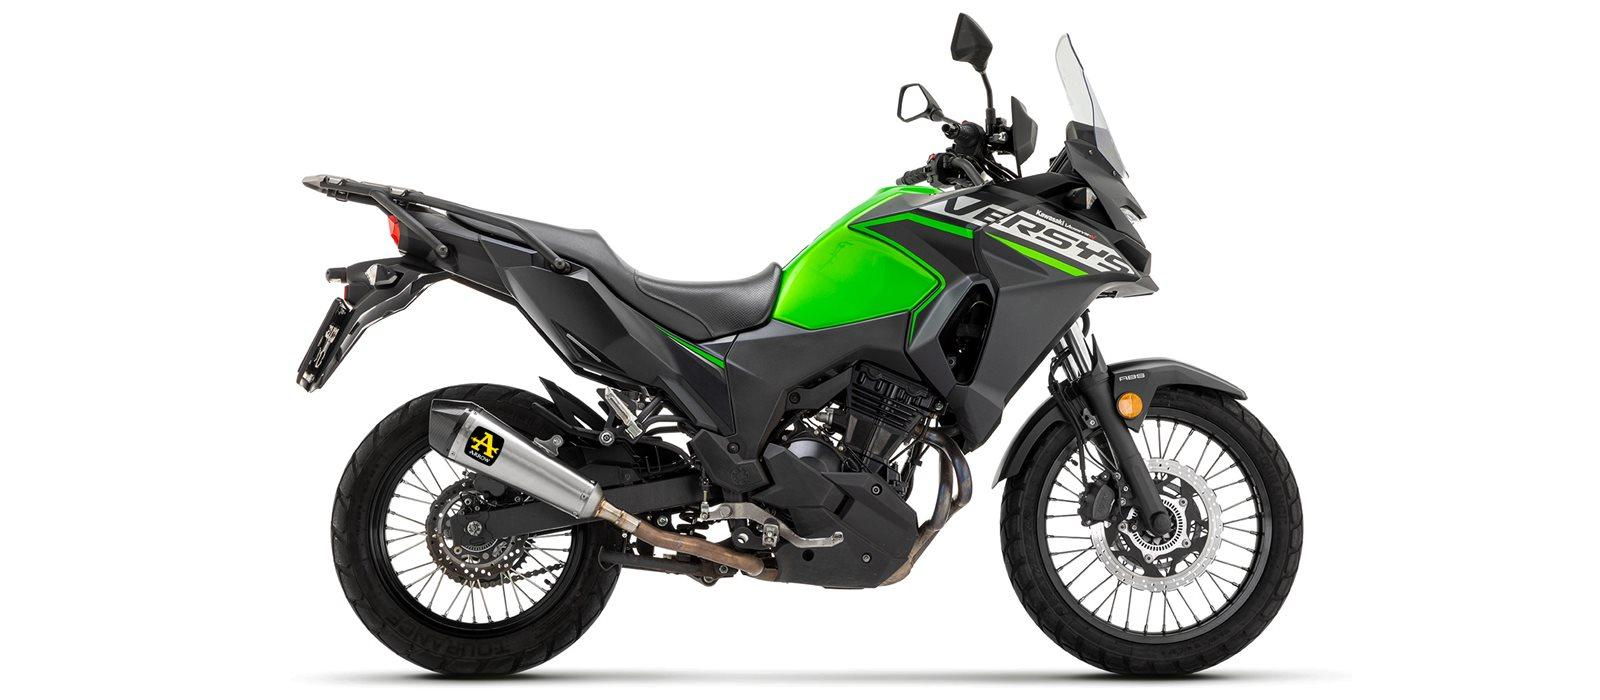engine-chasis: (686, 309, 949, 590), (596, 544, 739, 588), (676, 503, 710, 540)
exhaust: (428, 398, 778, 582), (878, 427, 973, 587)
frontside: (847, 33, 1249, 538)
handlebar: (895, 12, 1039, 191), (1045, 146, 1082, 177), (1065, 119, 1096, 146)
motorbike: (296, 34, 1304, 676)
rearside: (295, 173, 740, 532), (451, 501, 582, 546)
seat: (492, 212, 783, 341), (445, 210, 536, 250)
tank: (768, 185, 945, 331)
wheel: (998, 385, 1304, 679), (329, 383, 629, 679), (1047, 346, 1114, 488), (433, 558, 565, 590), (1081, 308, 1091, 339)
